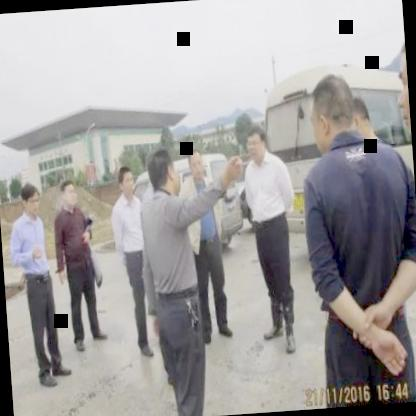head: (302, 66, 354, 152), (393, 32, 412, 142), (144, 144, 178, 202), (348, 95, 376, 143), (241, 120, 269, 164), (16, 178, 42, 218), (59, 174, 82, 214), (113, 162, 136, 198), (186, 146, 207, 182)
